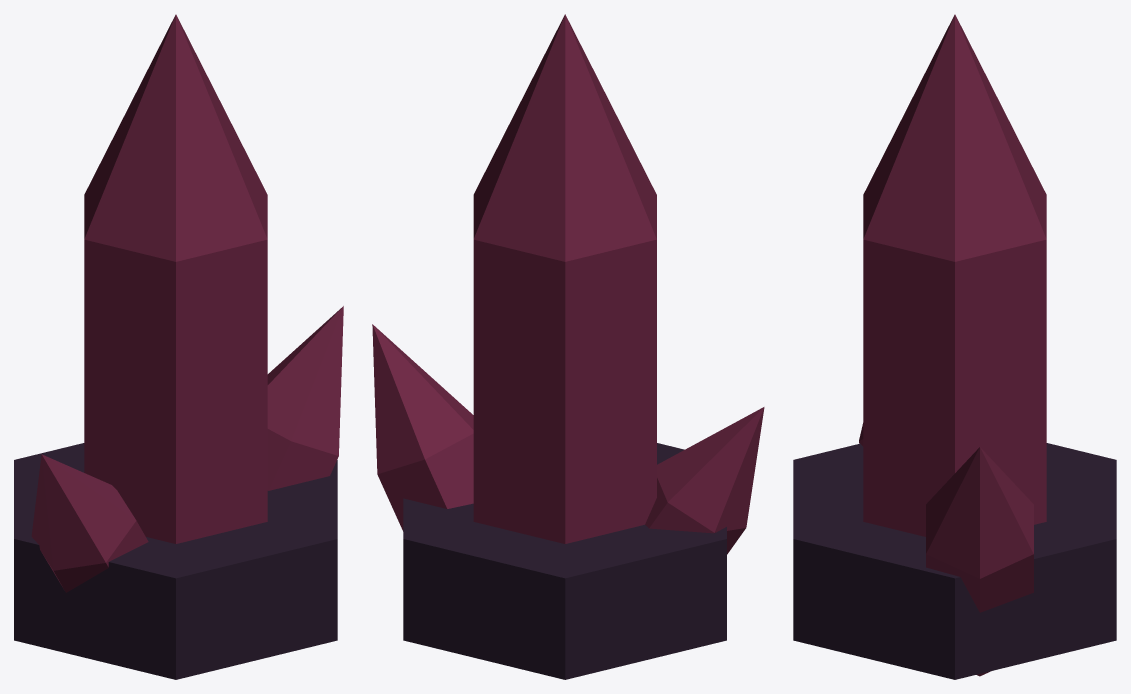
Rendered from crystal.glb.
3 renders of one model, left to right at view 1: azimuth 30°, elevation 25°; view 2: azimuth 150°, elevation 25°; view 3: azimuth 270°, elevation 25°, orthographic.
Parts seen in each view (by area): view 1: Shard, Plinth; view 2: Shard, Plinth; view 3: Shard, Plinth.
Part boxes in pixels (x1=…): Shard: x1=31, y1=14, x2=343, y2=592; Plinth: x1=14, y1=443, x2=337, y2=679; Shard: x1=372, y1=14, x2=764, y2=554; Plinth: x1=403, y1=443, x2=726, y2=679; Shard: x1=859, y1=14, x2=1046, y2=676; Plinth: x1=793, y1=443, x2=1116, y2=679.
Bounding box in the file's own units: 0.6437 × 1.08 × 0.5196.
